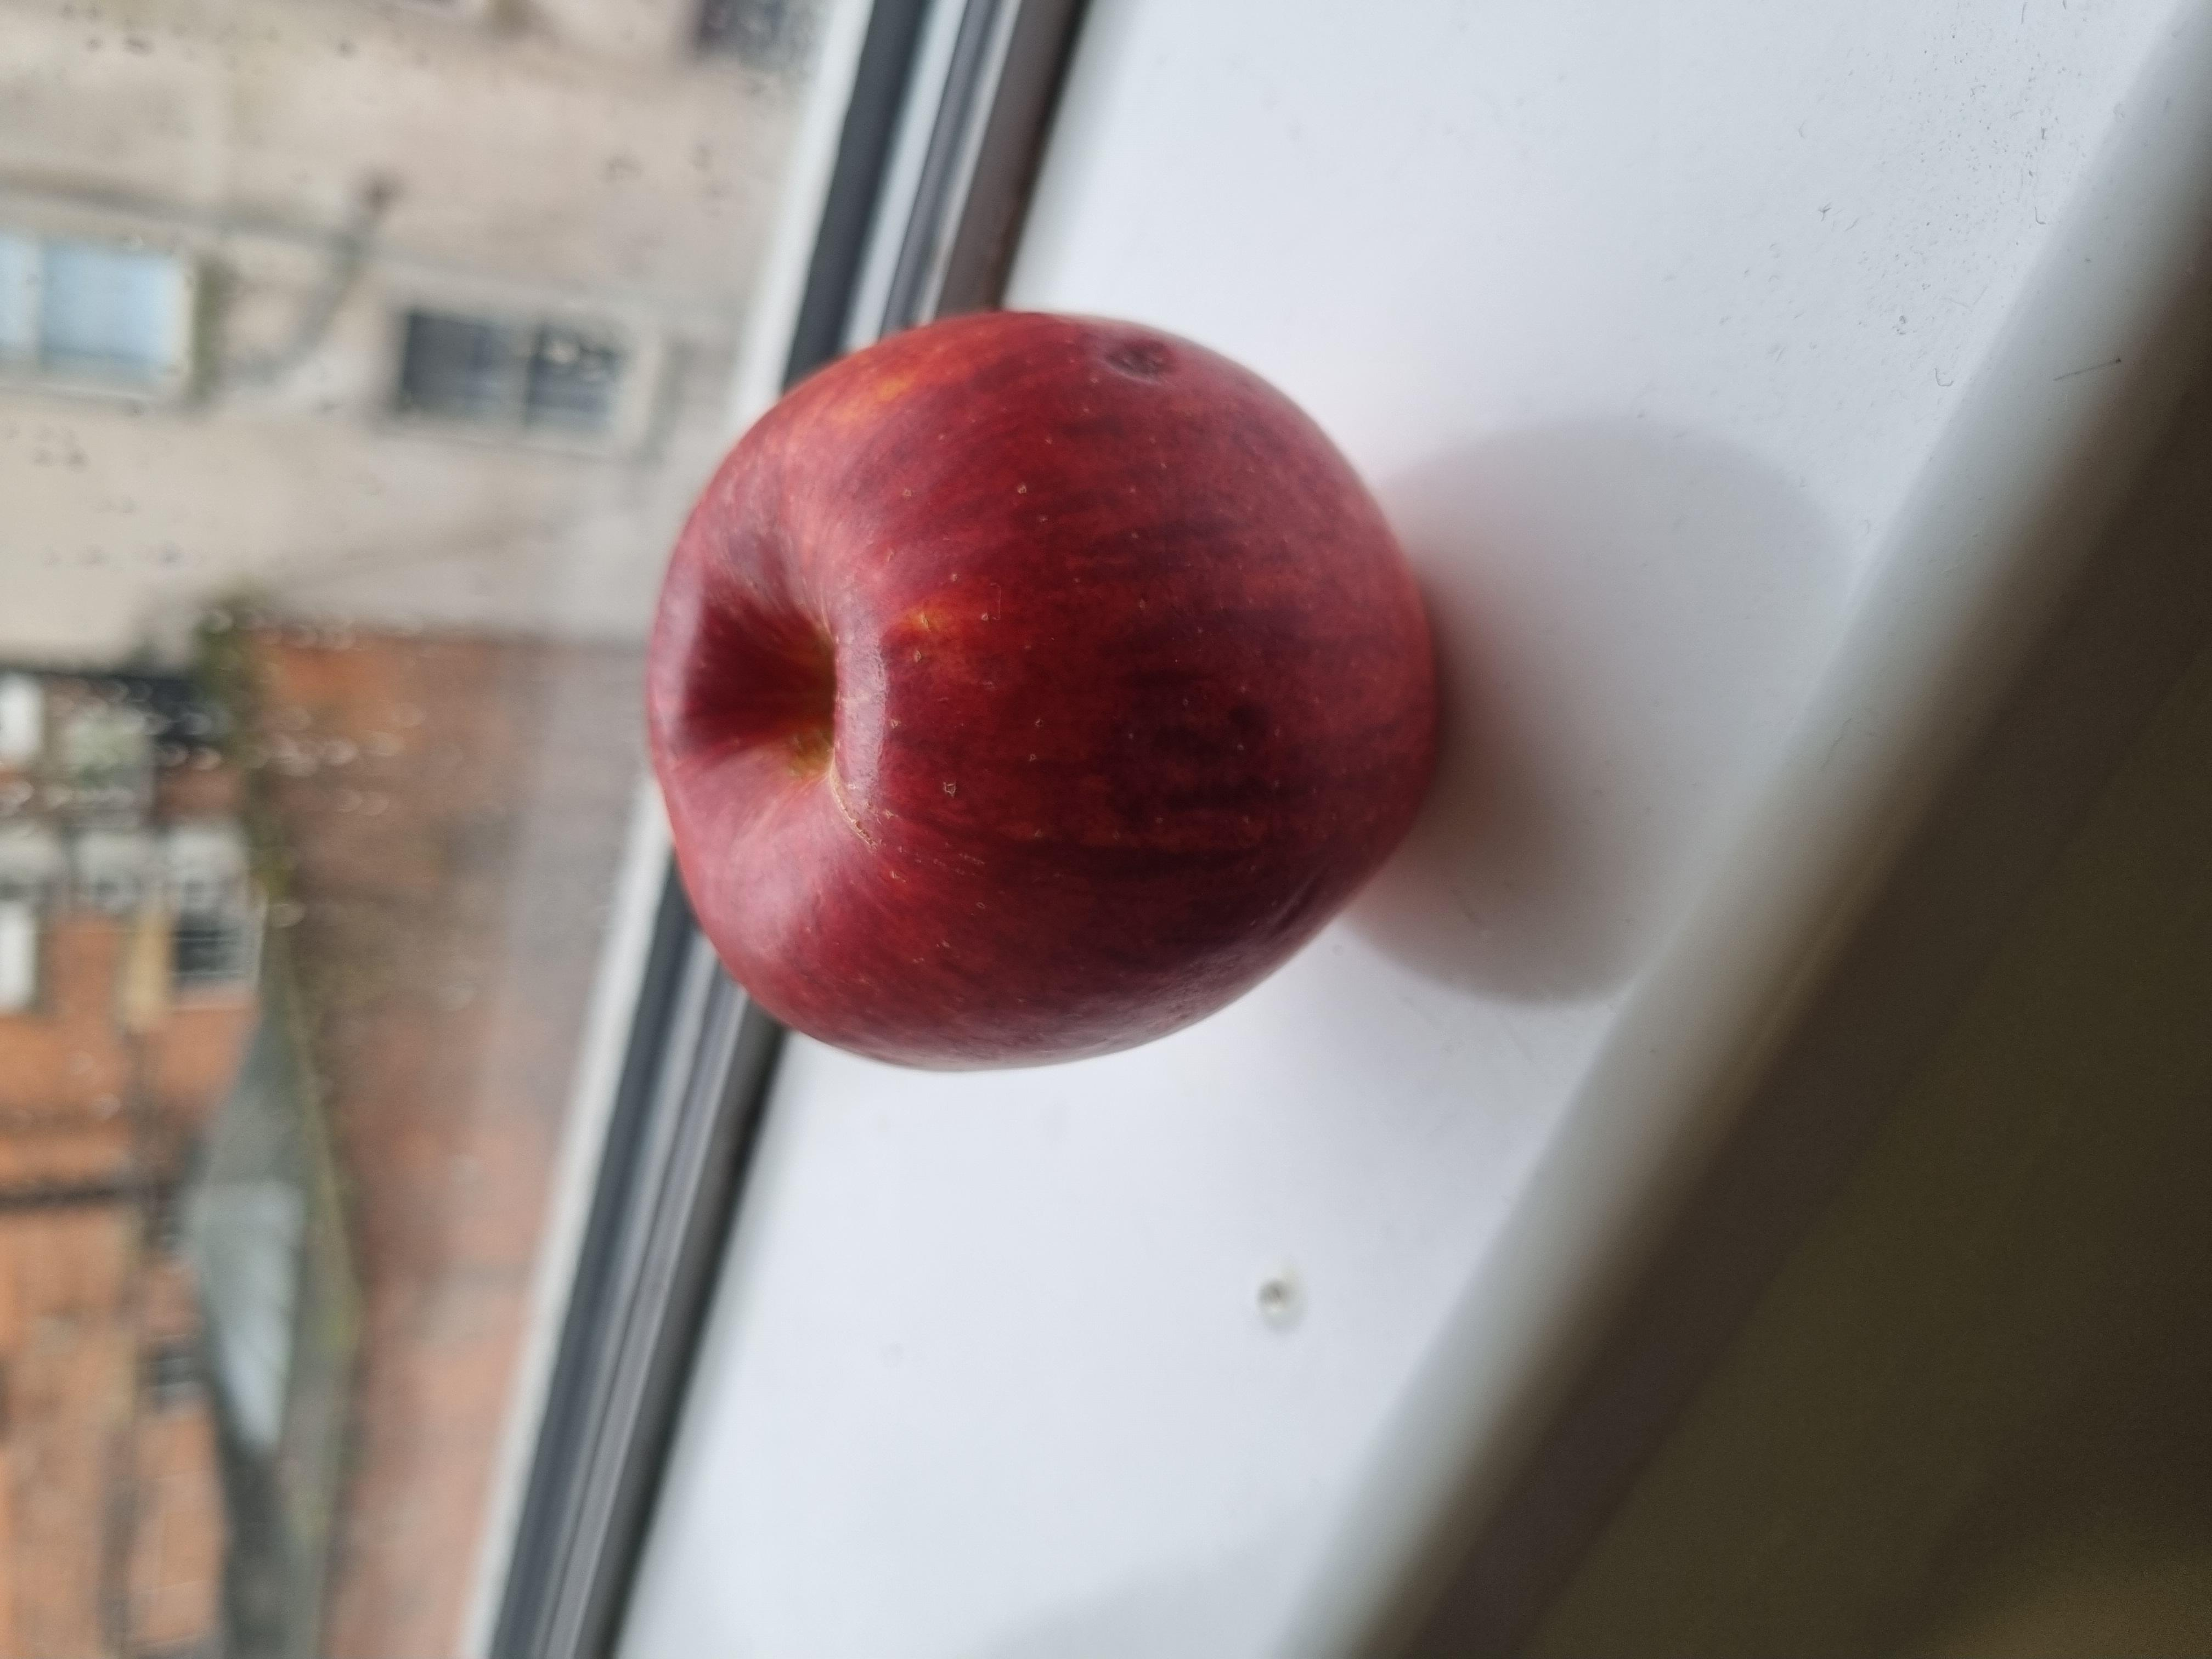Apple: (735, 462, 1860, 1107)
